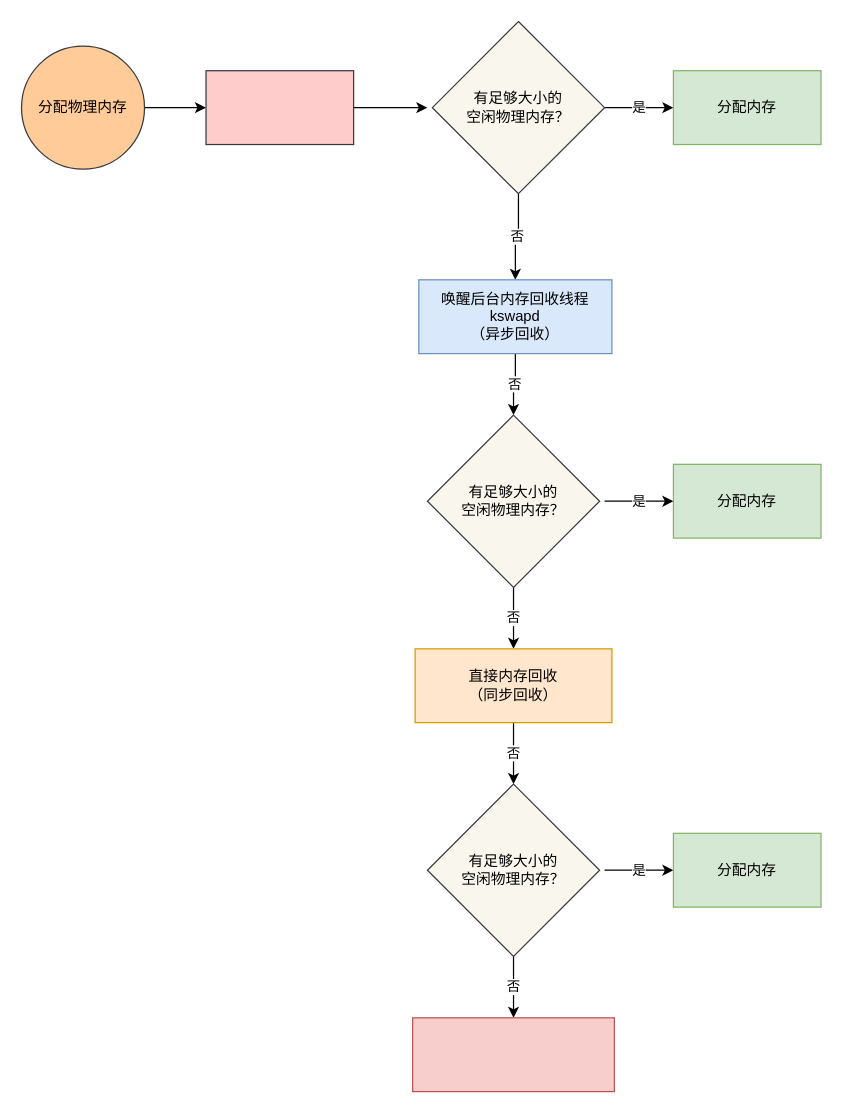
This 843x1113 diagram has some shape labels left out. Here are the shapes that lost their labels. From the top down, the centre of each, then its label:
At point (279, 107): "Page Fault".
At point (512, 1054): "OOM".
